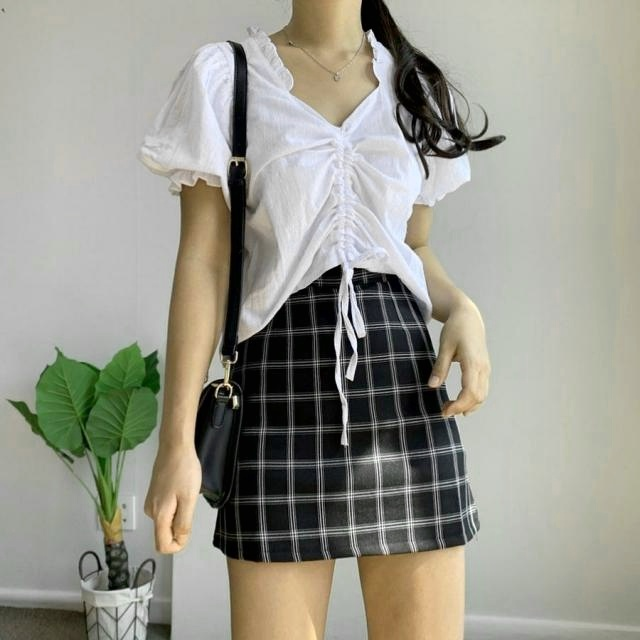Miniskirt: (210, 266, 481, 640)
low_neckline: (237, 22, 423, 269)
